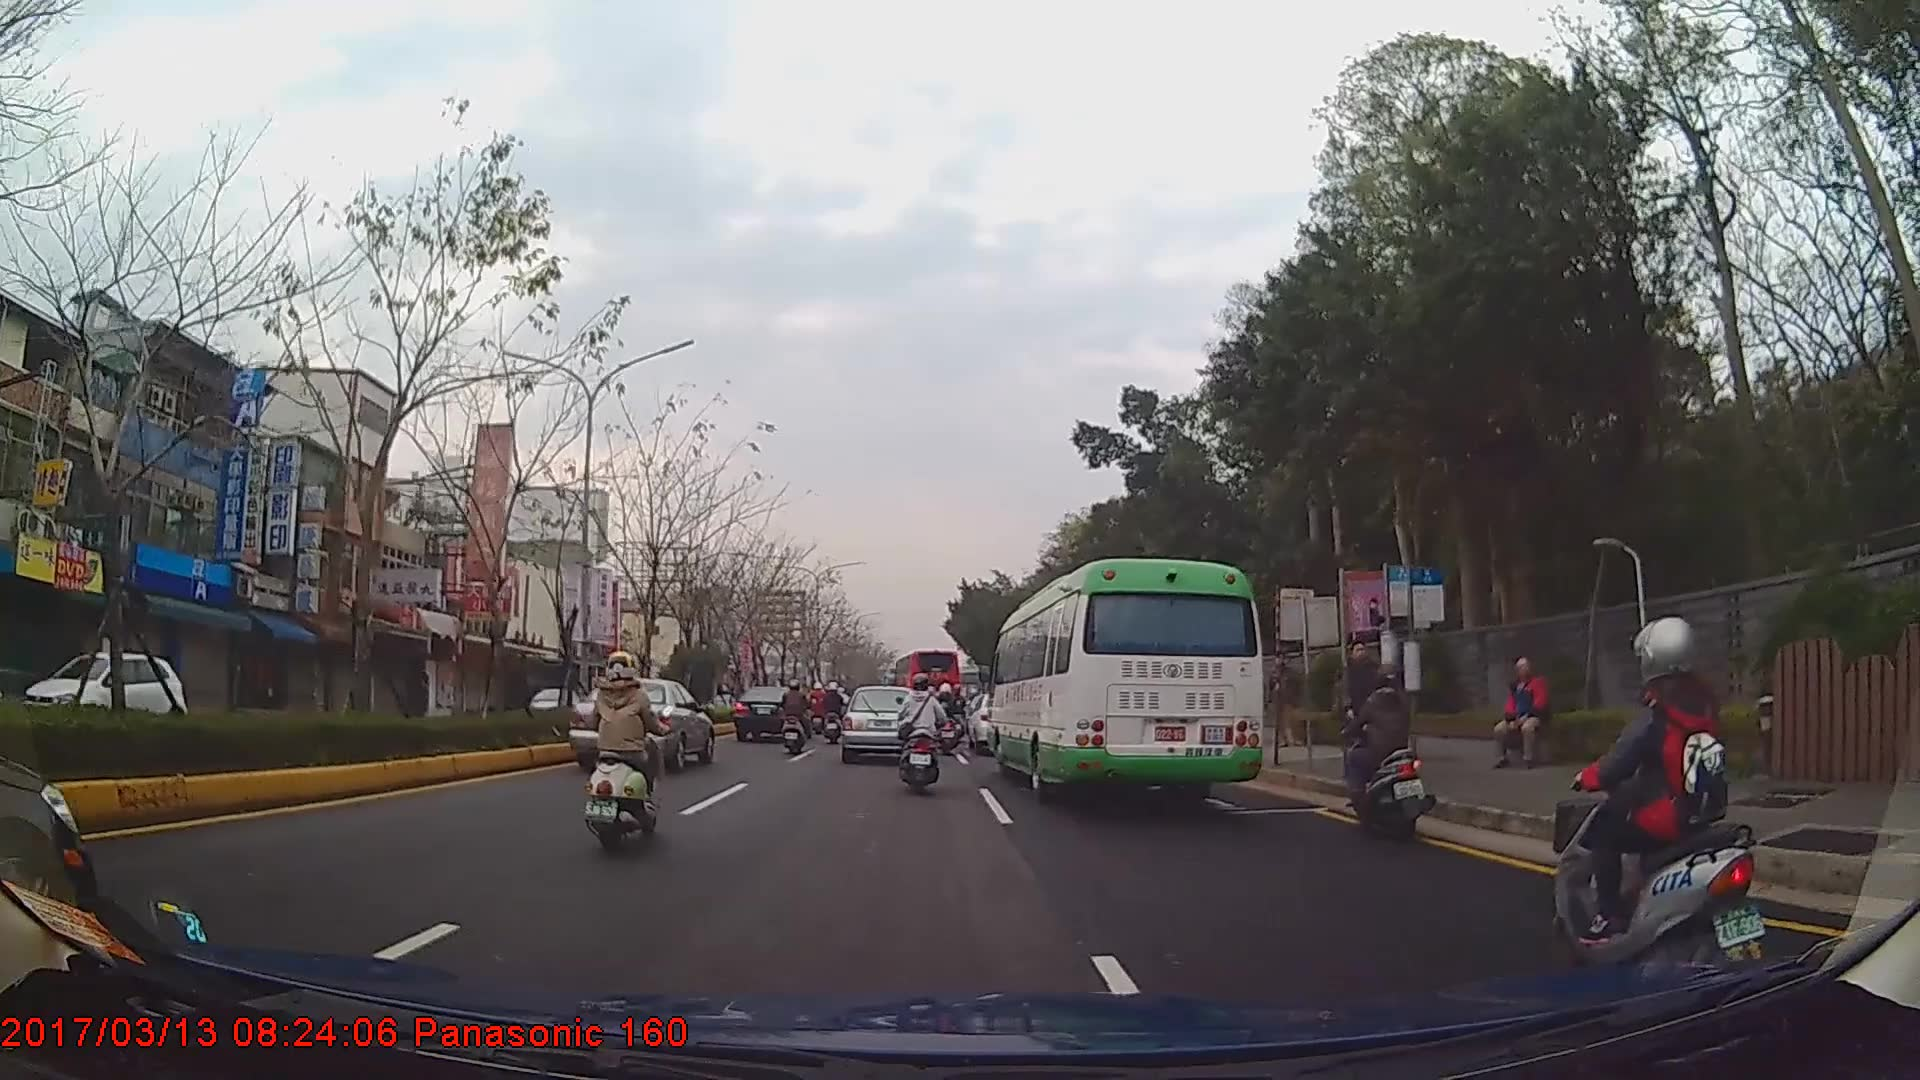pedestrian: (1338, 643, 1391, 786), (1496, 655, 1552, 773), (1267, 648, 1302, 751)
rider: (1554, 614, 1764, 973), (1338, 661, 1429, 846), (590, 650, 674, 850), (900, 675, 951, 794), (783, 679, 815, 756), (936, 681, 965, 739), (823, 682, 846, 744), (811, 682, 831, 736)
vehicle: (985, 557, 1265, 801), (14, 642, 189, 737), (567, 678, 713, 771), (840, 685, 925, 762), (895, 647, 965, 718), (733, 683, 811, 744)
